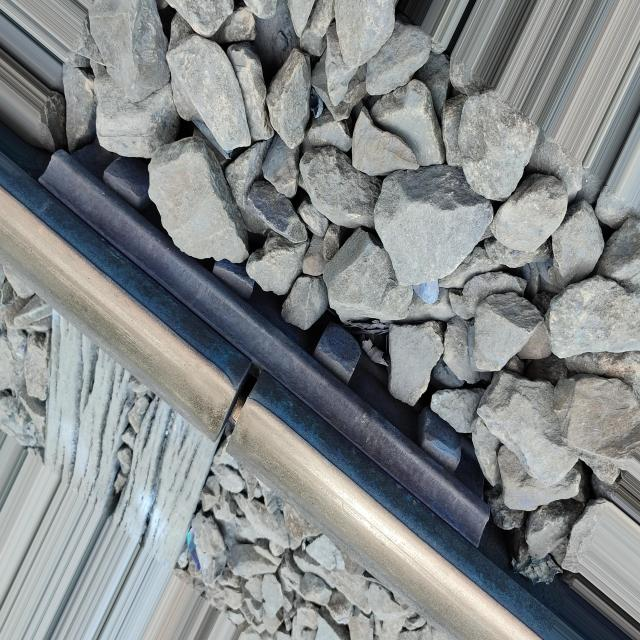crack: (186, 342, 279, 478)
